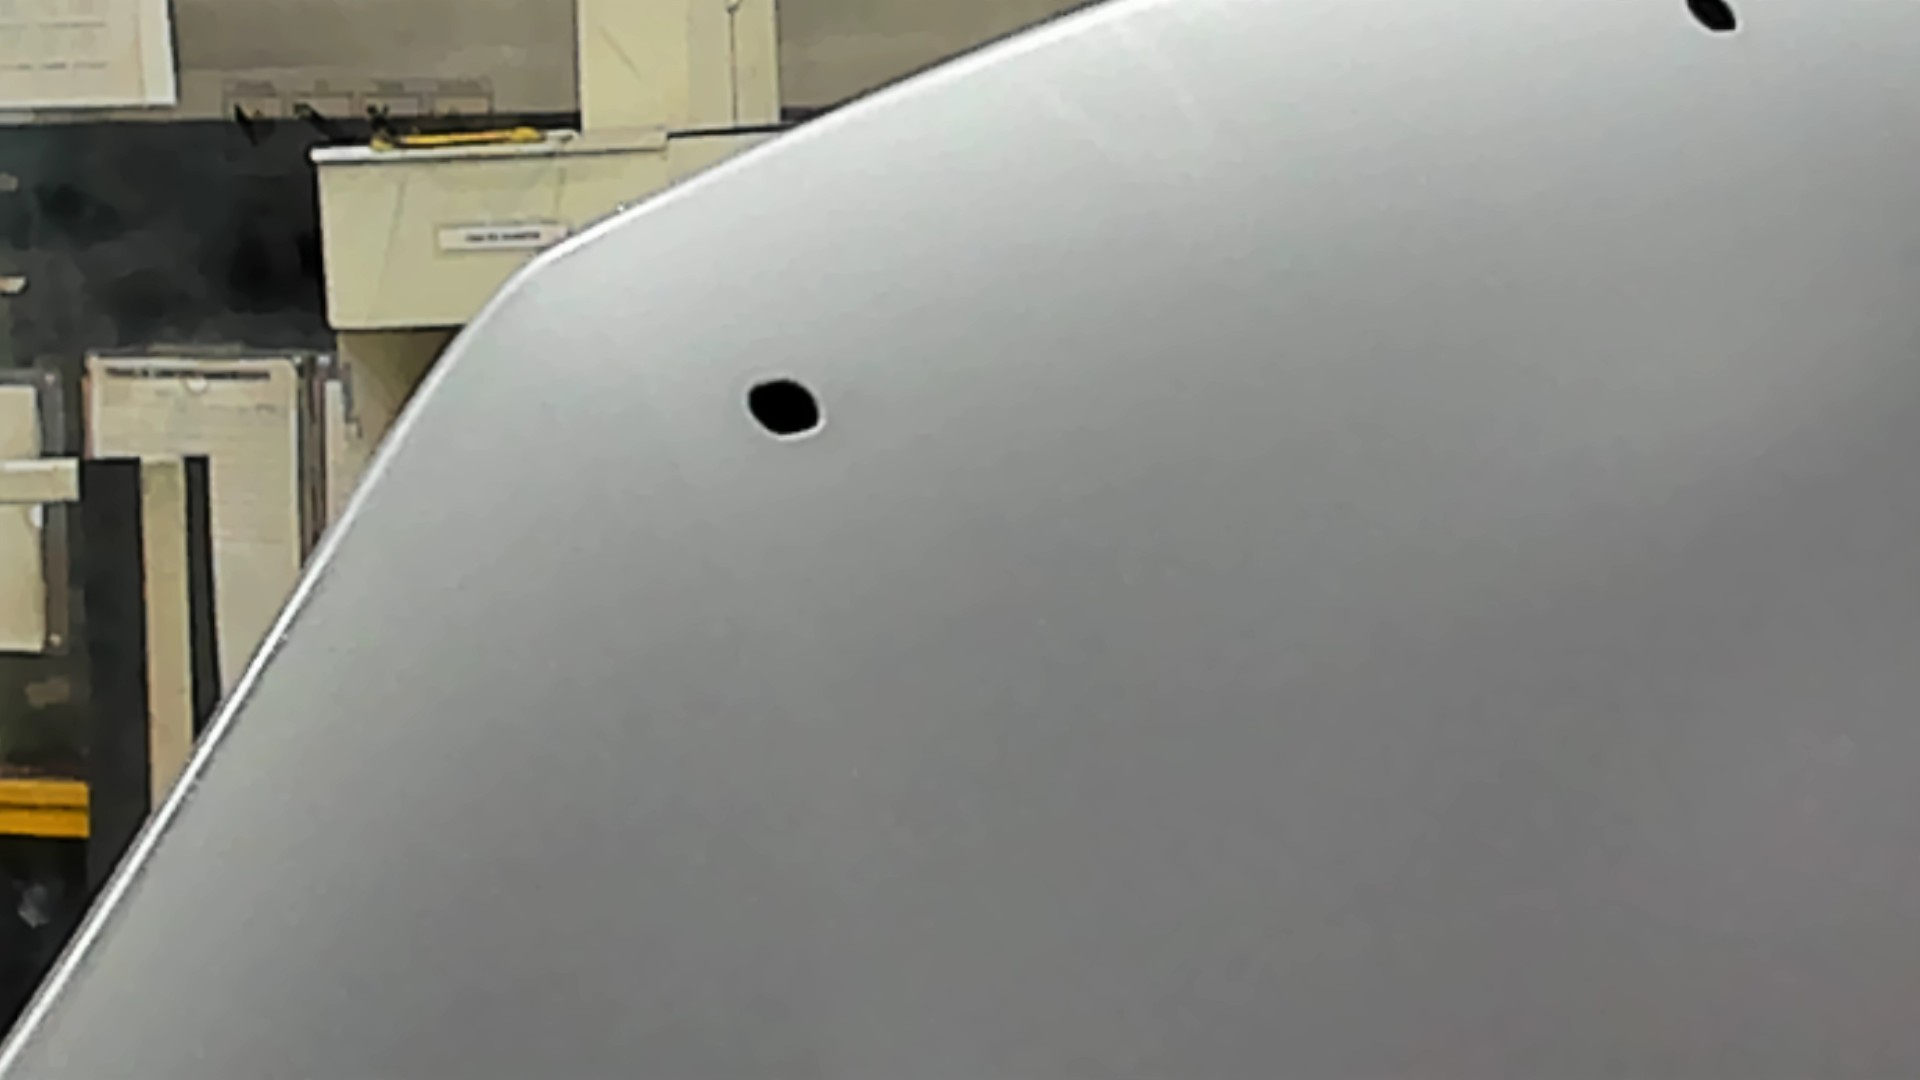Agujero: (742, 376, 824, 440), (1677, 1, 1741, 37)
